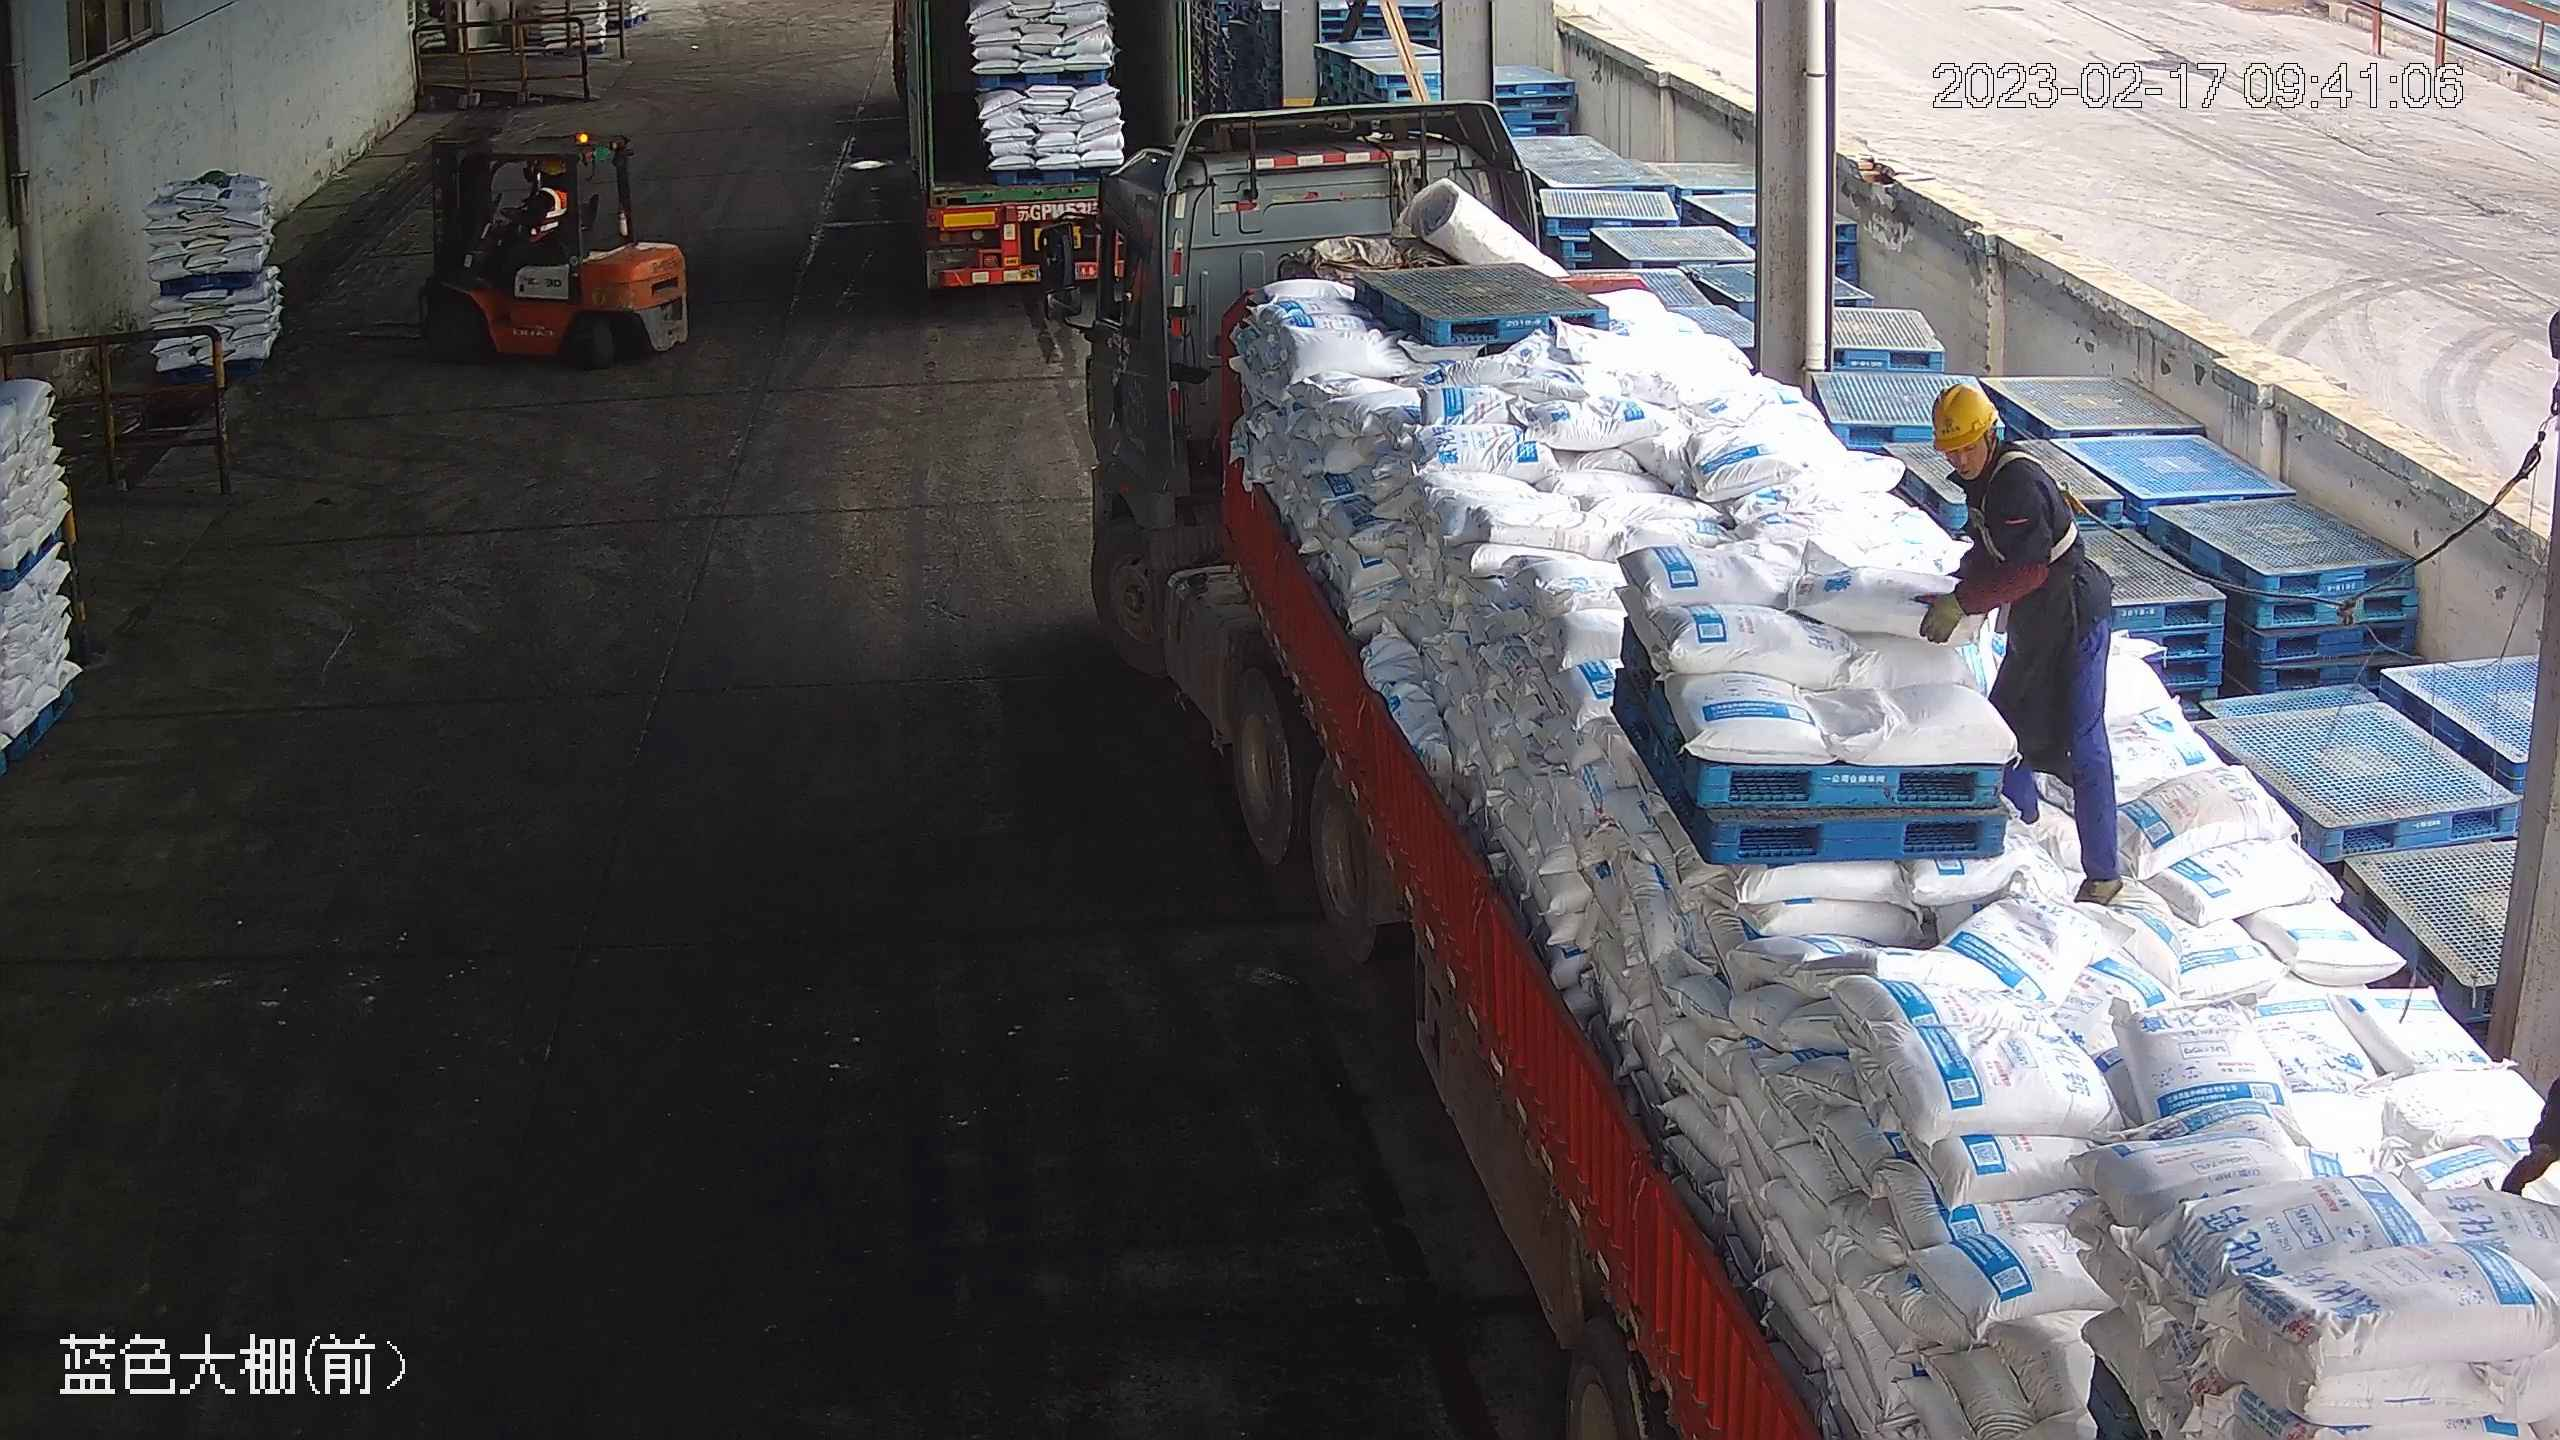belt: (1975, 448, 2089, 566)
head: (1929, 382, 2061, 518)
helmet: (1928, 379, 2001, 448), (537, 157, 564, 175)
people: (1919, 381, 2131, 903)
truck: (1042, 95, 2556, 1440), (892, 1, 1184, 295)
